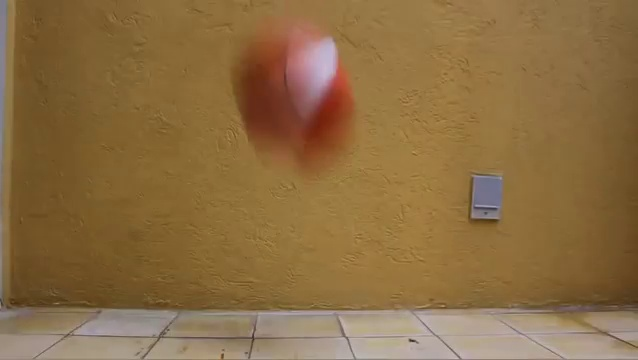ball: (235, 28, 358, 175)
